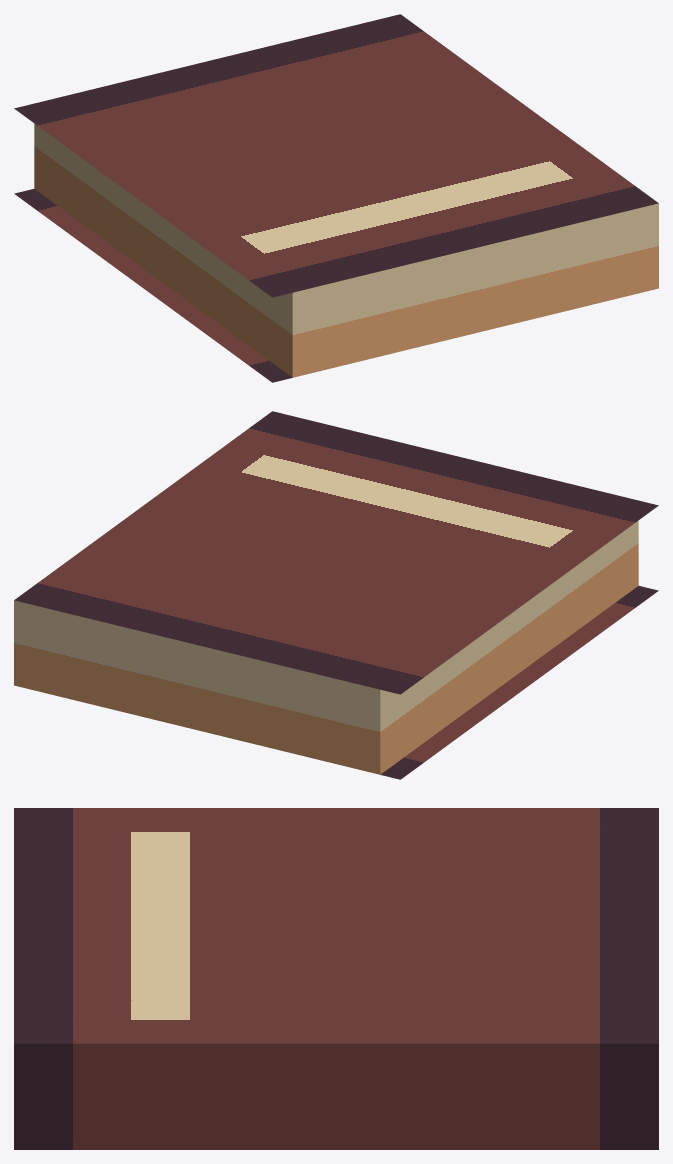
File: Book.gltf
The picture shows the model from 3 angles, top to bottom: view 1: azimuth 30°, elevation 25°; view 2: azimuth 150°, elevation 25°; view 3: azimuth 270°, elevation 25°; orthographic projection. The views are drawn at different scales.
Visible parts, largest first — view 1: mesh; view 2: mesh; view 3: mesh.
Boxes of the visible parts, x1,y1,x2,y2 form: mesh: (14,14,658,382); mesh: (14,411,658,779); mesh: (14,808,658,1149).
Size of the model in its own units: 0.5938 by 0.125 by 0.6875.
Materials: 1 (1 with a texture image).
